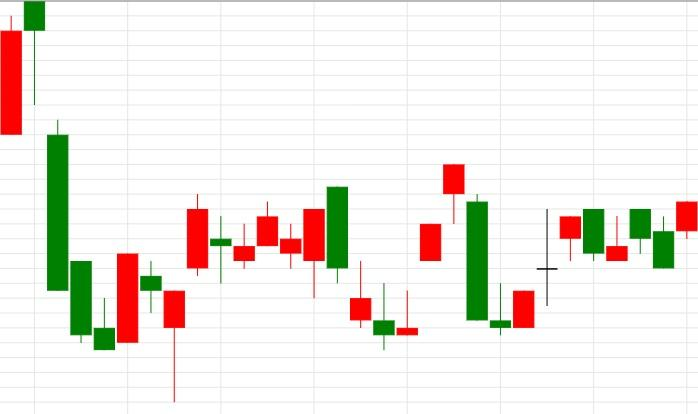bearish_engulfing_fall: (489, 208, 605, 335)
